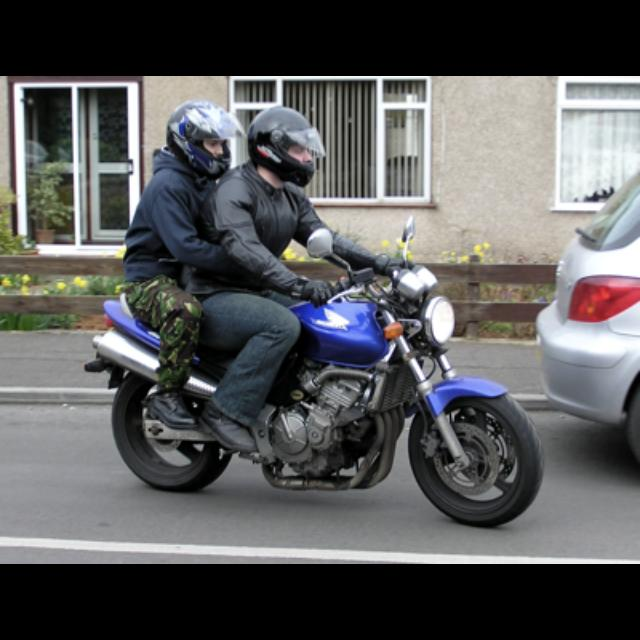With Helmet: (246, 105, 332, 193)
